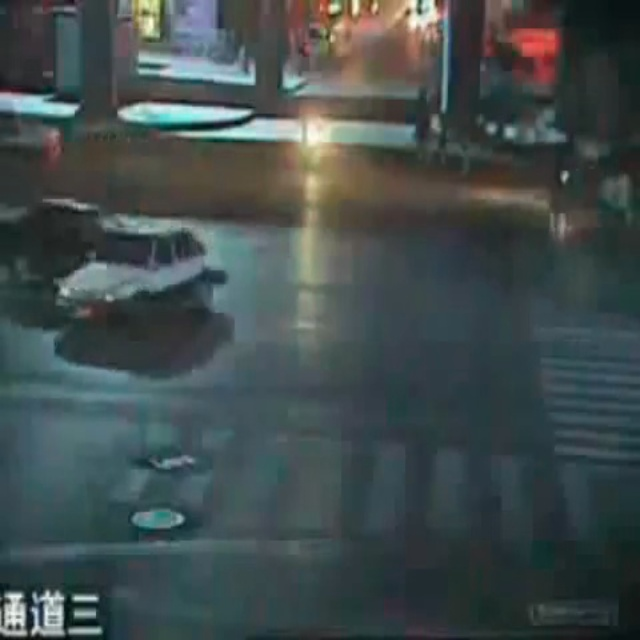acc: (2, 180, 217, 338)
